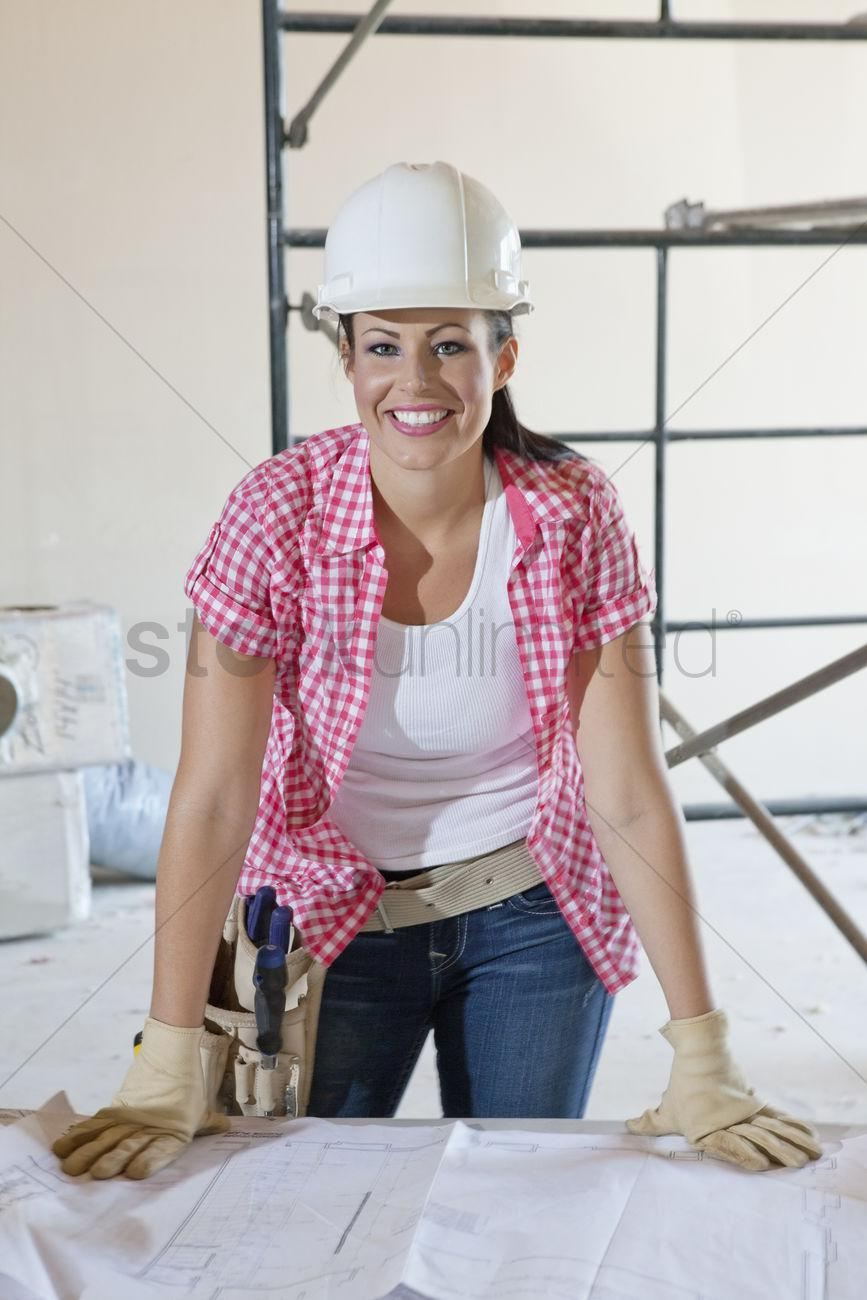hardhat: (307, 166, 542, 327)
worker: (53, 161, 826, 1178)
